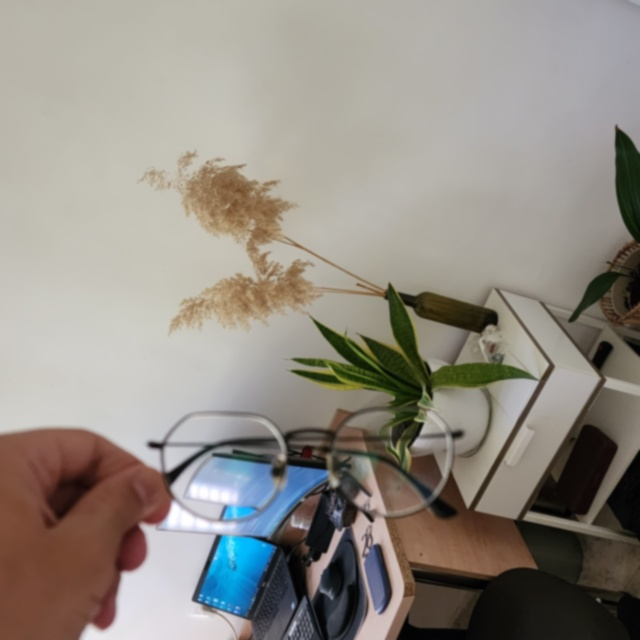glasses: (143, 403, 466, 535)
